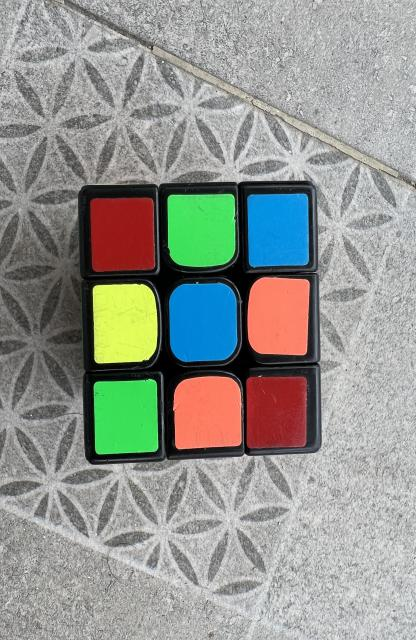Blue: (169, 282, 237, 361), (247, 194, 309, 268)
Green: (167, 194, 236, 268), (93, 379, 158, 455)
Orange: (173, 376, 242, 450), (247, 278, 310, 355)
Red: (90, 198, 155, 271), (246, 376, 307, 449)
Yellow: (92, 284, 158, 364)
